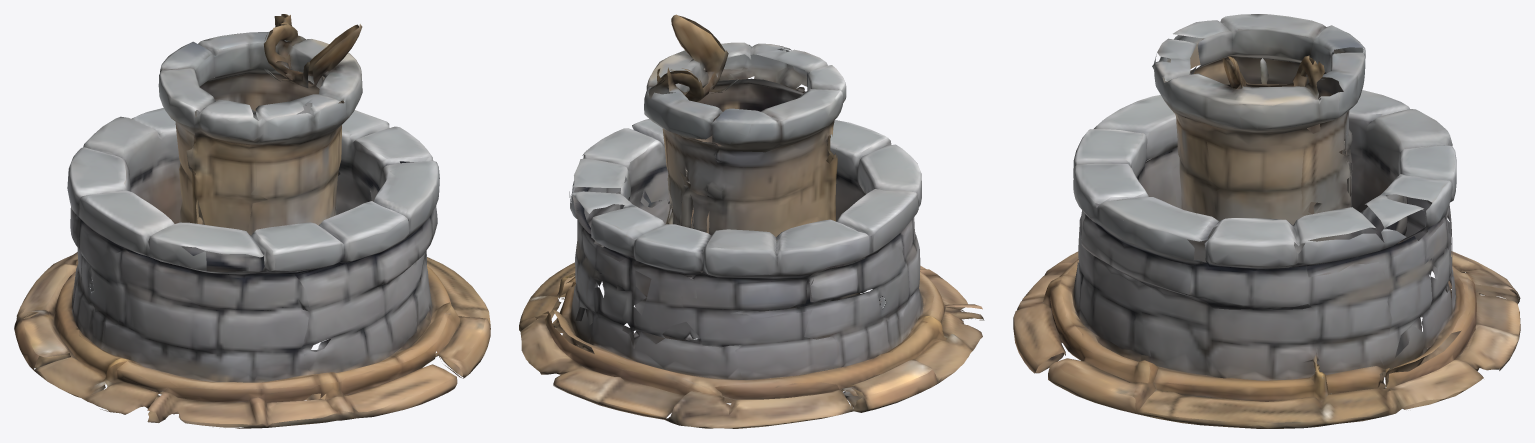
Rendered from prop_well_v2.glb.
3 renders of one model, left to right at view 1: azimuth 30°, elevation 25°; view 2: azimuth 150°, elevation 25°; view 3: azimuth 270°, elevation 25°, orthographic. The views are drawn at different scales.
Visible parts, largest first — view 1: world; view 2: world; view 3: world.
Boxes of the visible parts, bbox=[...] form: world: bbox=[14, 14, 490, 428]; world: bbox=[519, 14, 984, 428]; world: bbox=[1013, 14, 1520, 428].
Size of the model in its own units: 0.9941 by 0.6804 by 0.9967.
Materials: 1 (1 with a texture image).
